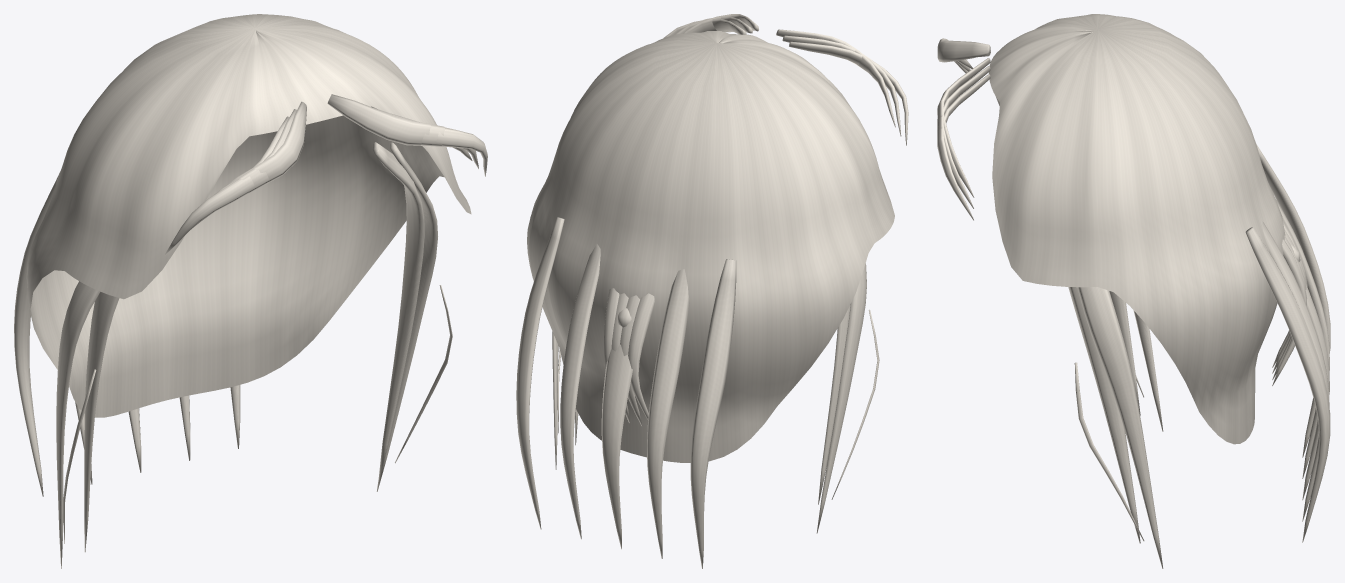
3 renders of one model, left to right at view 1: azimuth 30°, elevation 25°; view 2: azimuth 150°, elevation 25°; view 3: azimuth 270°, elevation 25°, orthographic. The views are drawn at different scales.
Visible parts, largest first — view 1: Portrait hair p3; view 2: Portrait hair p3; view 3: Portrait hair p3.
Boxes of the visible parts, x1,y1,x2,y2 form: Portrait hair p3: [14, 14, 487, 568]; Portrait hair p3: [516, 14, 908, 568]; Portrait hair p3: [937, 14, 1330, 568].
Size of the model in its own units: 1.06 by 1.38 by 1.04.
1 material, 1 textured.
